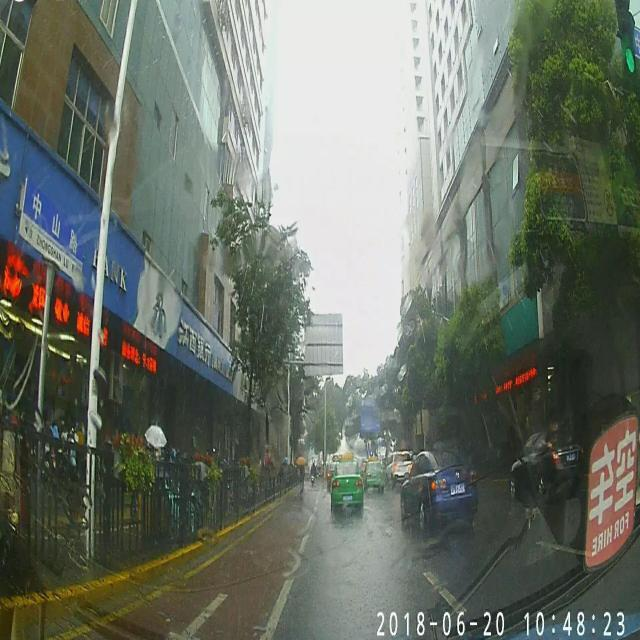car: (402, 453, 478, 526), (509, 430, 586, 496), (332, 457, 362, 510), (387, 449, 412, 487), (364, 458, 384, 490)
